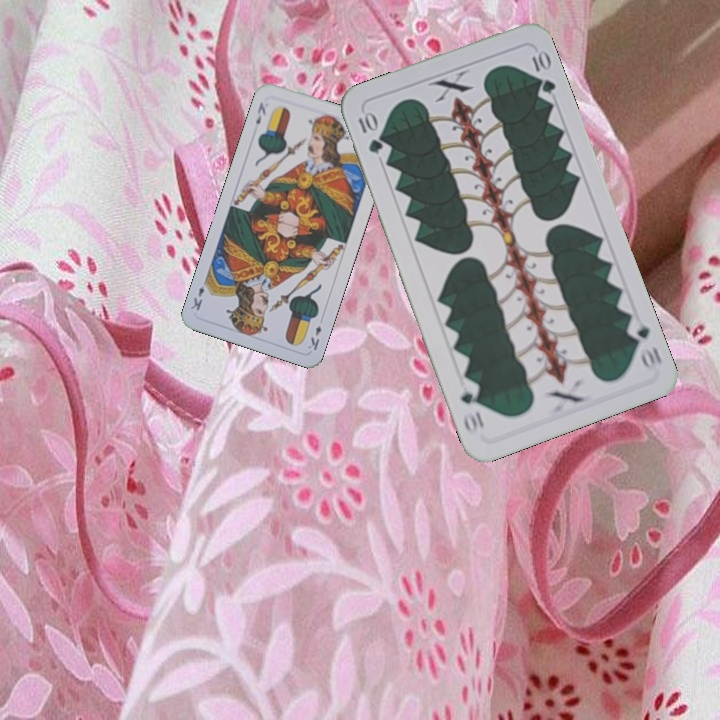EK: (304, 321, 324, 353), (251, 98, 269, 127)
G10: (623, 318, 665, 374), (354, 108, 385, 156)
